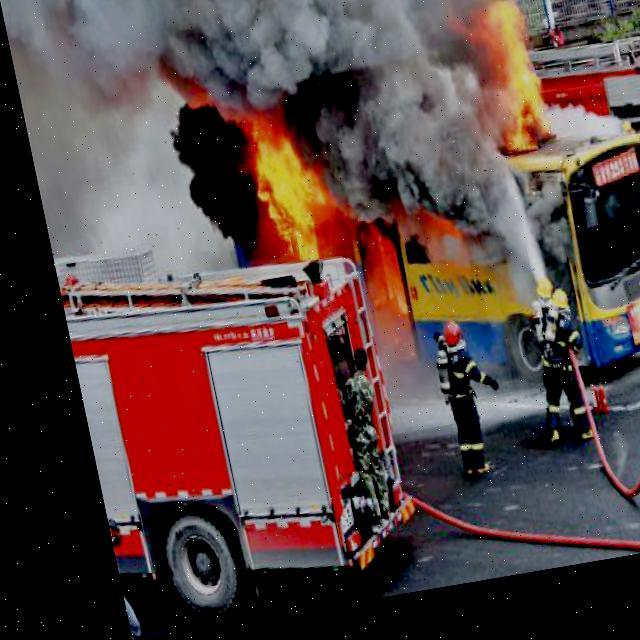Fire: (446, 5, 556, 183), (224, 110, 319, 272)
